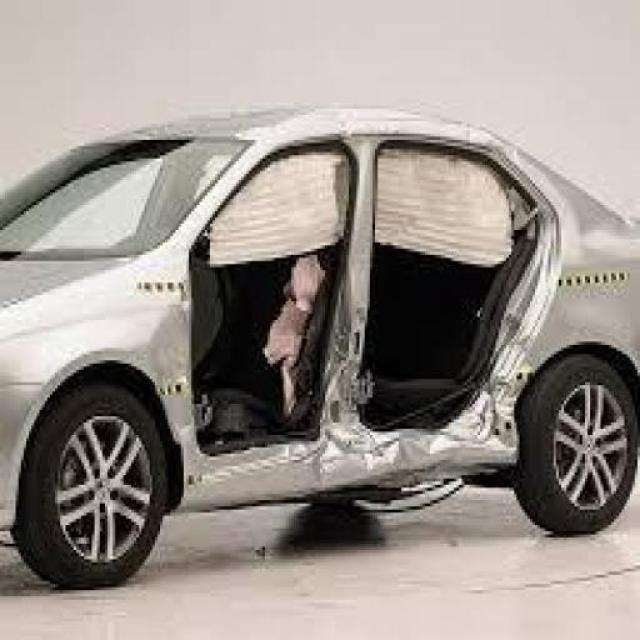crush: (220, 290, 573, 493)
missing: (164, 123, 543, 491)
